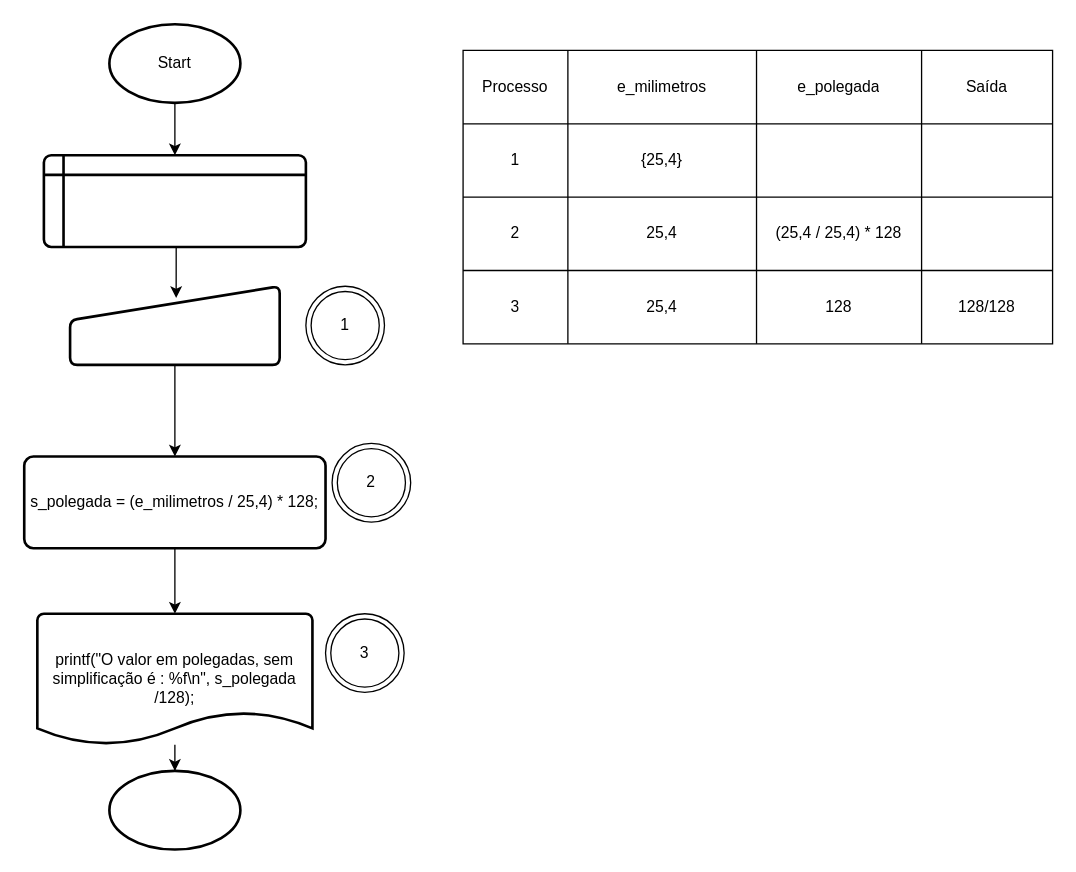
This 1076x872 diagram has some shape labels left out. The shapes that lost their labels are listed below. From the top down, each one's centre as x and y in pixels, then its label:
At (x=174, y=200): "e_milimetros, s_polegada;".
At (x=174, y=324): "e_milimetros;".
At (x=174, y=809): "End".
